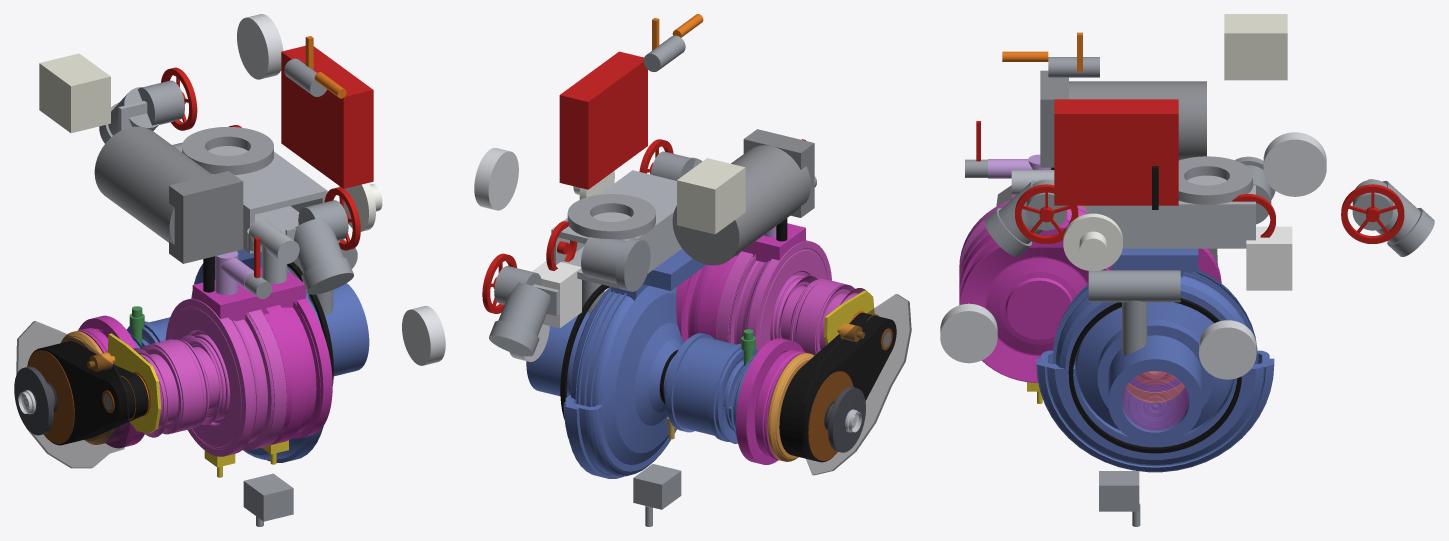
The model's file is NCPK_M_V1U.glb.
3 renders of one model, left to right at view 1: azimuth 30°, elevation 25°; view 2: azimuth 150°, elevation 25°; view 3: azimuth 270°, elevation 25°, orthographic. The views are drawn at different scales.
Parts seen in each view (by area): view 1: ВД 6 Корпус насоса и опор, П 24 Агрегат вакуумный, Р Кожух ремённой передачи, П 7 Блок управления и контроля БУК-02, ВД 1 Корпус насоса (со стороны входа), Р 3 Ремень поликлиновой 16РК812Lb, П Коллектор напорный, П 23 Пневмоостров, П 1 Напорный вентиль DN70 (левый): корпус и патрубок, П 9 Фланец DN80 для лафетного ствола, НД 16 Крышка насоса, ВД 1 Патрубки входа и выхода (+18 smaller); view 2: НД 13 Корпус насоса, ВД 6 Корпус насоса и опор, Р Кожух ремённой передачи, П 7 Блок управления и контроля БУК-02, П 24 Агрегат вакуумный, Р 3 Ремень поликлиновой 16РК812Lb, П Коллектор напорный, П 23 Пневмоостров, НД 5 Муфта электромагнитная Э1ТМ, П 12 Напорный вентиль DN70 (правый): корпус и патрубок, П 9 Фланец DN80 для лафетного ствола, ВД 1 Корпус насоса (со стороны входа) (+15 smaller); view 3: НД 13 Корпус насоса, НД 16 Крышка насоса, П 7 Блок управления и контроля БУК-02, ВД 1 Корпус насоса (со стороны входа), П Коллектор напорный, П 24 Агрегат вакуумный, П 16 Пеносмеситель (эжектор), П 23 Пневмоостров, П 11 Мановакуумметр на выходе СНД, НД 17 Сетка, П 9 Фланец DN80 для лафетного ствола, П 12 Напорный вентиль DN70 (правый): корпус и патрубок (+15 smaller).
Boxes of the visible parts, x1,y1,x2,y2 form: ВД 6 Корпус насоса и опор: [133, 298, 286, 456]; П 24 Агрегат вакуумный: [94, 126, 243, 263]; Р Кожух ремённой передачи: [16, 321, 130, 468]; П 7 Блок управления и контроля БУК-02: [281, 45, 373, 188]; ВД 1 Корпус насоса (со стороны входа): [260, 298, 332, 445]; Р 3 Ремень поликлиновой 16РК812Lb: [28, 341, 148, 445]; П Коллектор напорный: [118, 101, 339, 253]; П 23 Пневмоостров: [39, 53, 110, 133]; П 1 Напорный вентиль DN70 (левый): корпус и патрубок: [294, 200, 353, 294]; П 9 Фланец DN80 для лафетного ствола: [182, 127, 273, 174]; НД 16 Крышка насоса: [306, 283, 369, 376]; ВД 1 Патрубки входа и выхода: [192, 268, 306, 321]; НД 13 Корпус насоса: [563, 248, 758, 478]; ВД 6 Корпус насоса и опор: [716, 240, 866, 355]; Р Кожух ремённой передачи: [802, 294, 911, 475]; П 7 Блок управления и контроля БУК-02: [559, 51, 647, 189]; П 24 Агрегат вакуумный: [672, 129, 814, 265]; Р 3 Ремень поликлиновой 16РК812Lb: [779, 312, 896, 462]; П Коллектор напорный: [532, 170, 681, 316]; П 23 Пневмоостров: [677, 158, 745, 234]; НД 5 Муфта электромагнитная Э1ТМ: [735, 338, 805, 464]; П 12 Напорный вентиль DN70 (правый): корпус и патрубок: [489, 266, 550, 356]; П 9 Фланец DN80 для лафетного ствола: [567, 194, 655, 239]; ВД 1 Корпус насоса (со стороны входа): [676, 252, 740, 342]; НД 13 Корпус насоса: [1036, 248, 1274, 472]; НД 16 Крышка насоса: [1075, 302, 1233, 444]; П 7 Блок управления и контроля БУК-02: [1054, 99, 1178, 205]; ВД 1 Корпус насоса (со стороны входа): [959, 220, 1112, 382]; П Коллектор напорный: [1037, 175, 1373, 248]; П 24 Агрегат вакуумный: [1040, 70, 1206, 167]; П 16 Пеносмеситель (эжектор): [1088, 270, 1180, 355]; П 23 Пневмоостров: [1224, 14, 1287, 80]; П 11 Мановакуумметр на выходе СНД: [1263, 132, 1326, 196]; НД 17 Сетка: [1122, 371, 1188, 430]; П 9 Фланец DN80 для лафетного ствола: [1178, 156, 1252, 204]; П 12 Напорный вентиль DN70 (правый): корпус и патрубок: [1352, 179, 1434, 256].
Size of the model in its own units: 0.6671 by 0.9625 by 0.8598.
